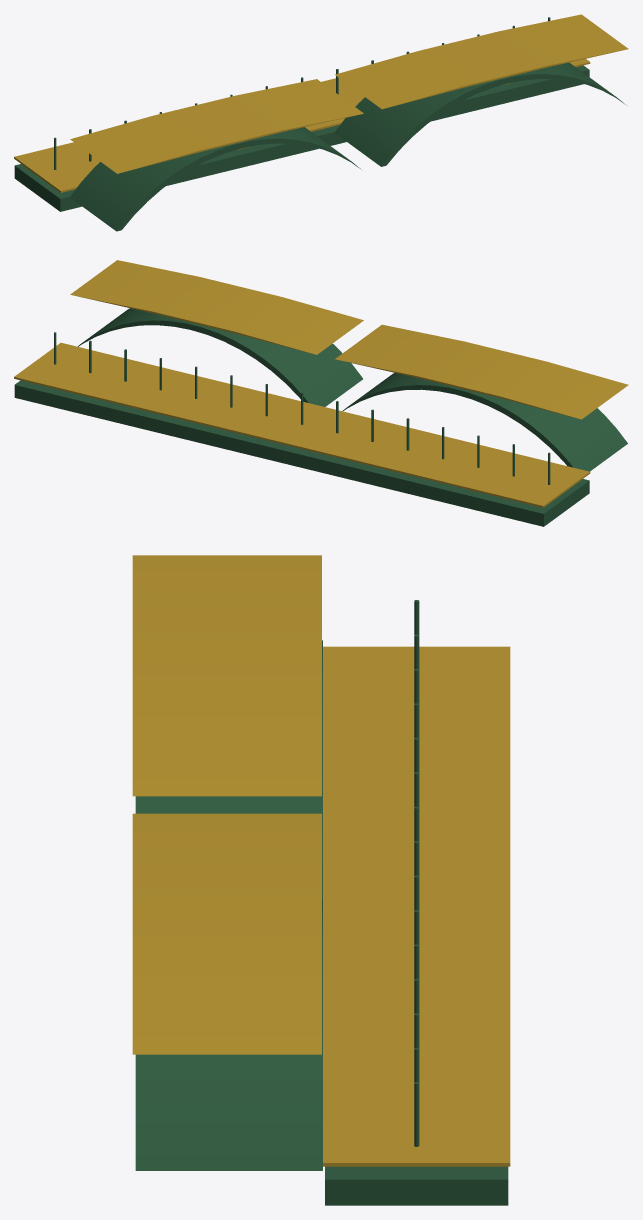
The model's file is l-barnes-railway-bridge.glb.
3 renders of one model, top to bottom at view 1: azimuth 30°, elevation 25°; view 2: azimuth 150°, elevation 25°; view 3: azimuth 270°, elevation 25°, orthographic. The views are drawn at different scales.
Visible parts, largest first — view 1: part4, part2, part1, part3, part0, part20; view 2: part20, part2, part4, part0, part1, part3; view 3: part20, part2, part4, part3, part0, part1.
Boxes of the visible parts, x1,y1,x2,y2 form: part4: [335, 14, 628, 109]; part2: [70, 79, 363, 173]; part1: [70, 127, 362, 231]; part3: [334, 62, 625, 166]; part0: [14, 65, 589, 211]; part20: [14, 59, 590, 192]; part20: [14, 342, 590, 507]; part2: [335, 324, 628, 419]; part4: [70, 260, 363, 354]; part0: [14, 380, 589, 526]; part1: [342, 372, 627, 471]; part3: [78, 308, 362, 406]; part20: [323, 646, 510, 1166]; part2: [132, 555, 321, 796]; part4: [132, 813, 321, 1054]; part3: [135, 898, 322, 1170]; part0: [325, 1166, 508, 1205]; part1: [135, 640, 322, 898].
Size of the model in its own units: 60000 by 8056 by 18550.
